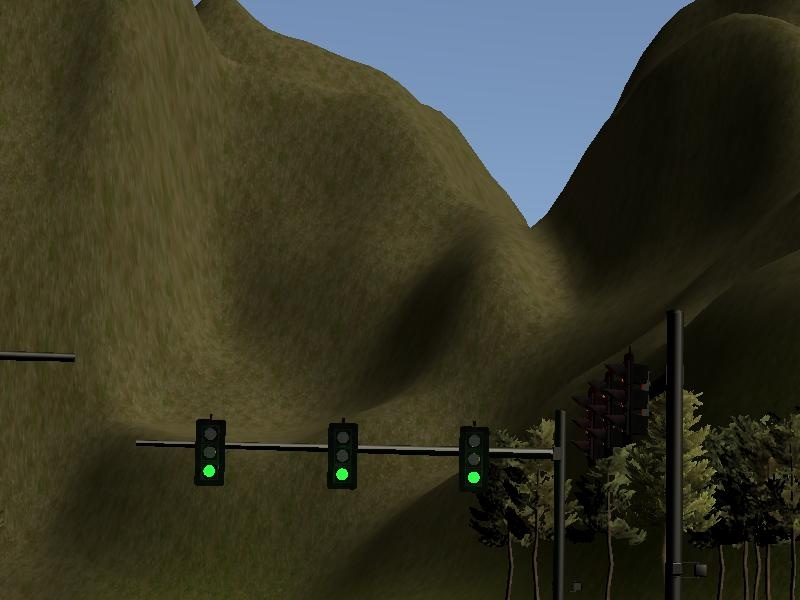green: (191, 418, 224, 488), (326, 424, 359, 494), (457, 427, 490, 497)
